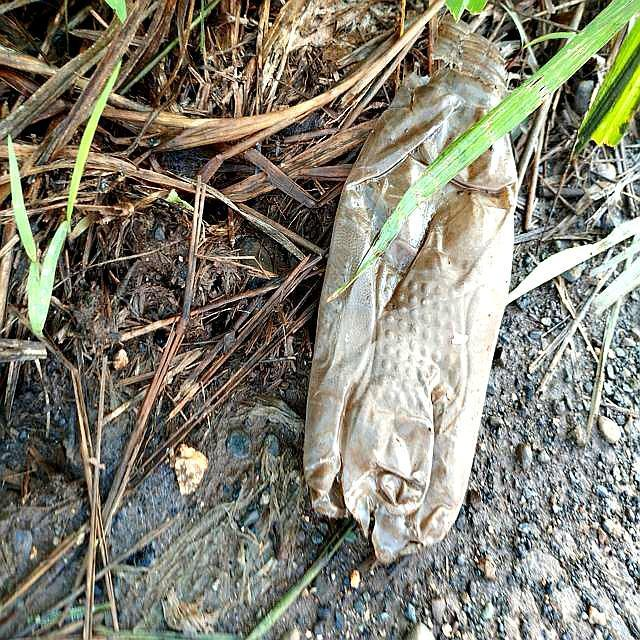Non-biodegradable: (275, 11, 539, 575)
